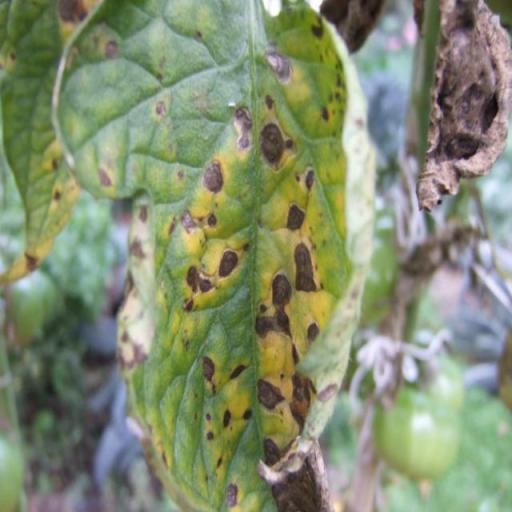Early Blight: (52, 0, 360, 512)
